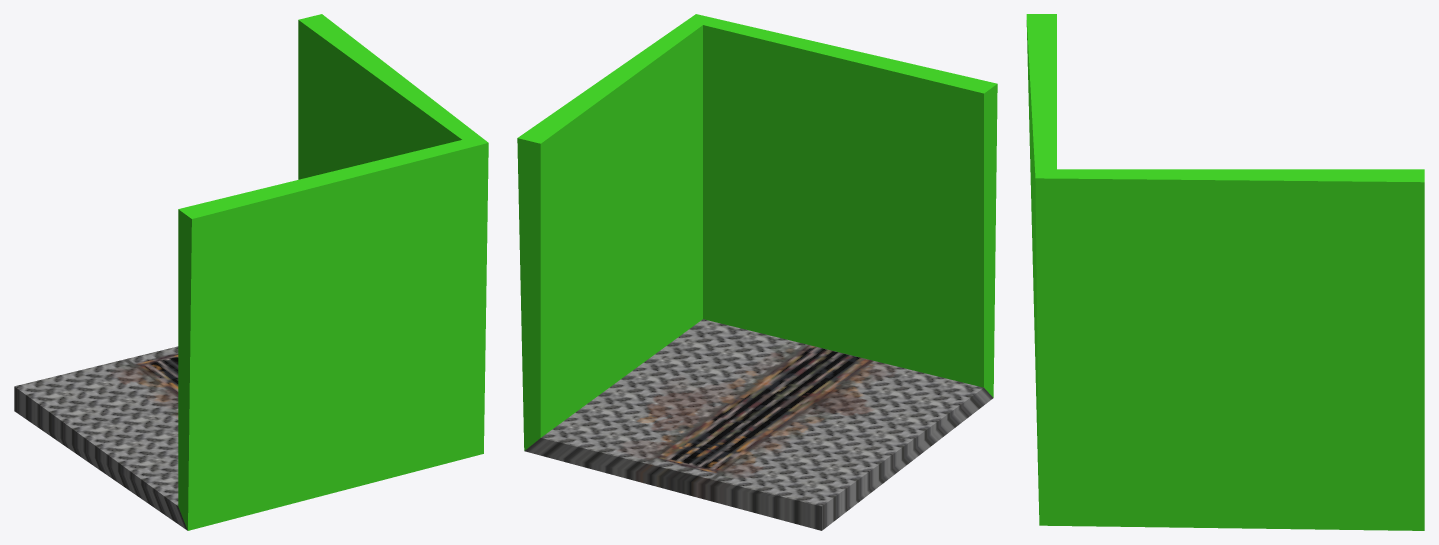
The model's file is FloorTile.004.fbx.
The picture shows the model from 3 angles, left to right: view 1: azimuth 30°, elevation 25°; view 2: azimuth 150°, elevation 25°; view 3: azimuth 270°, elevation 25°; orthographic projection. The views are drawn at different scales.
Visible parts, largest first — view 1: FloorTile.004; view 2: FloorTile.004; view 3: FloorTile.004.
Part boxes in pixels (x1=…): FloorTile.004: x1=14, y1=14, x2=488, y2=530; FloorTile.004: x1=517, y1=14, x2=997, y2=530; FloorTile.004: x1=1026, y1=14, x2=1424, y2=530.
Bounding box in the file's own units: 650 × 650 × 650.
